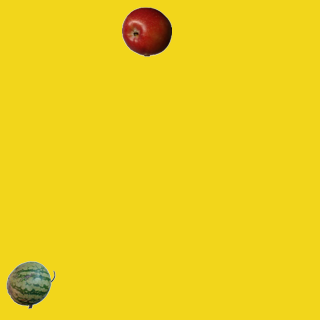Apple Braeburn: (121, 6, 171, 56)
Watermelon: (5, 259, 55, 309)
